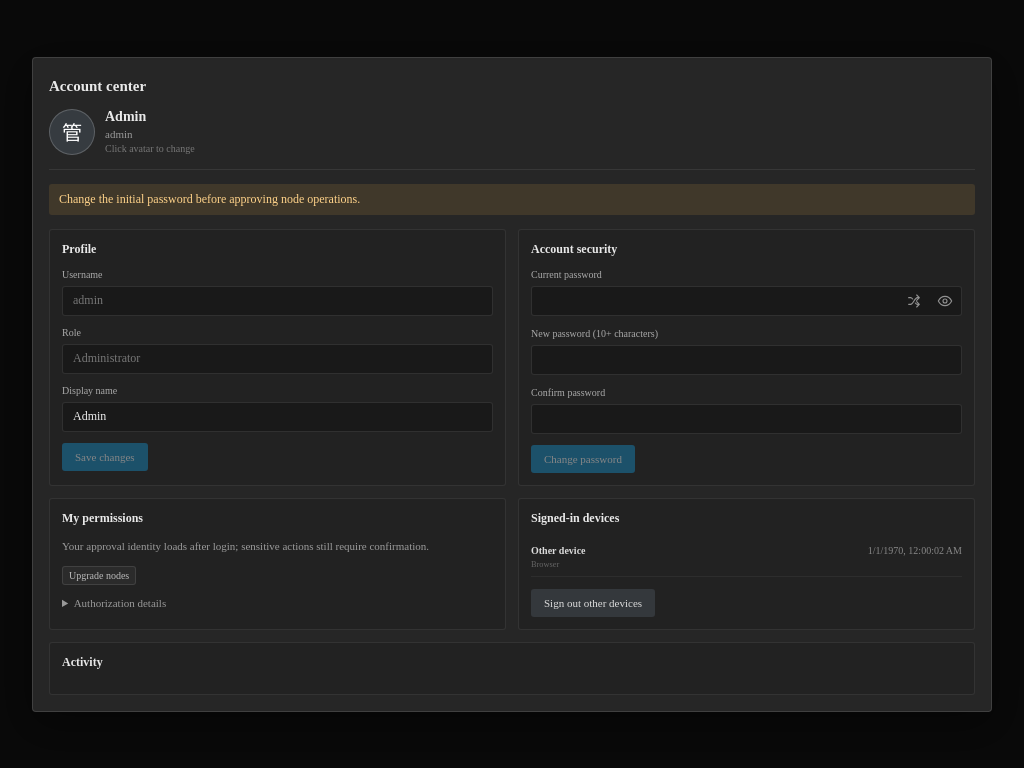
reports failed saves and allows retry
This screenshot has width=1024, height=768.
Expected: the text "Browser" is shown, [531,560,559,568]
Replace the text in the field labelled "Display name" with "Changed". click: {"x": 278, "y": 416}
box: [62,402,493,432]
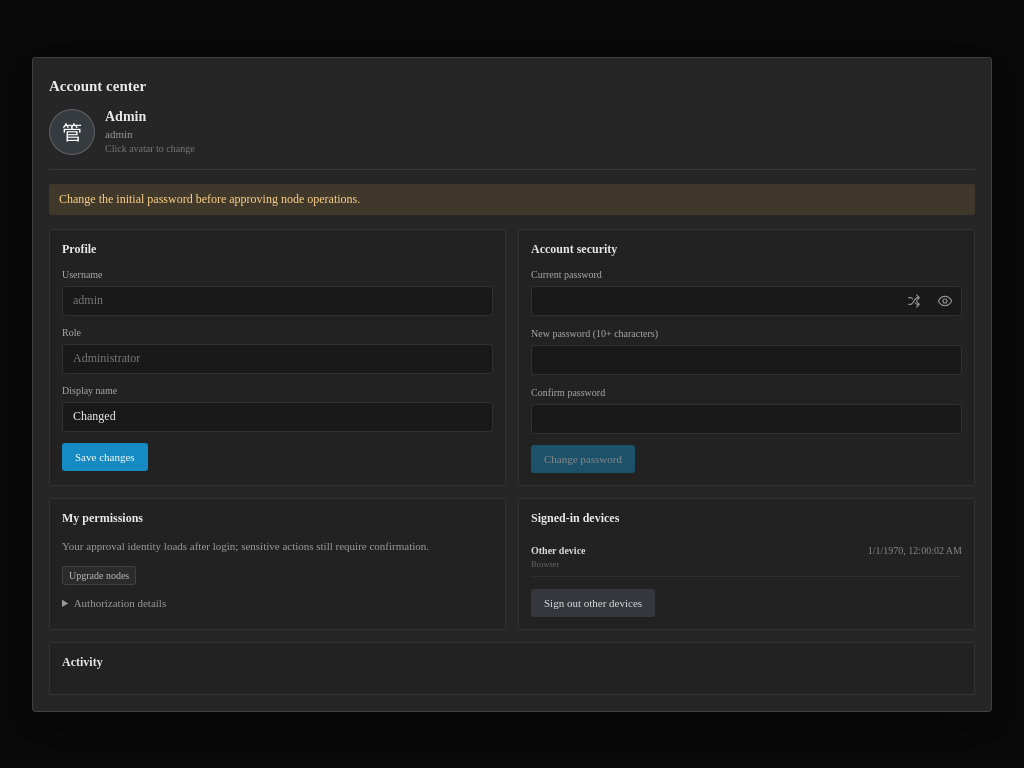
Click the button "Save changes". click: {"x": 105, "y": 456}
box: [62,442,148,470]
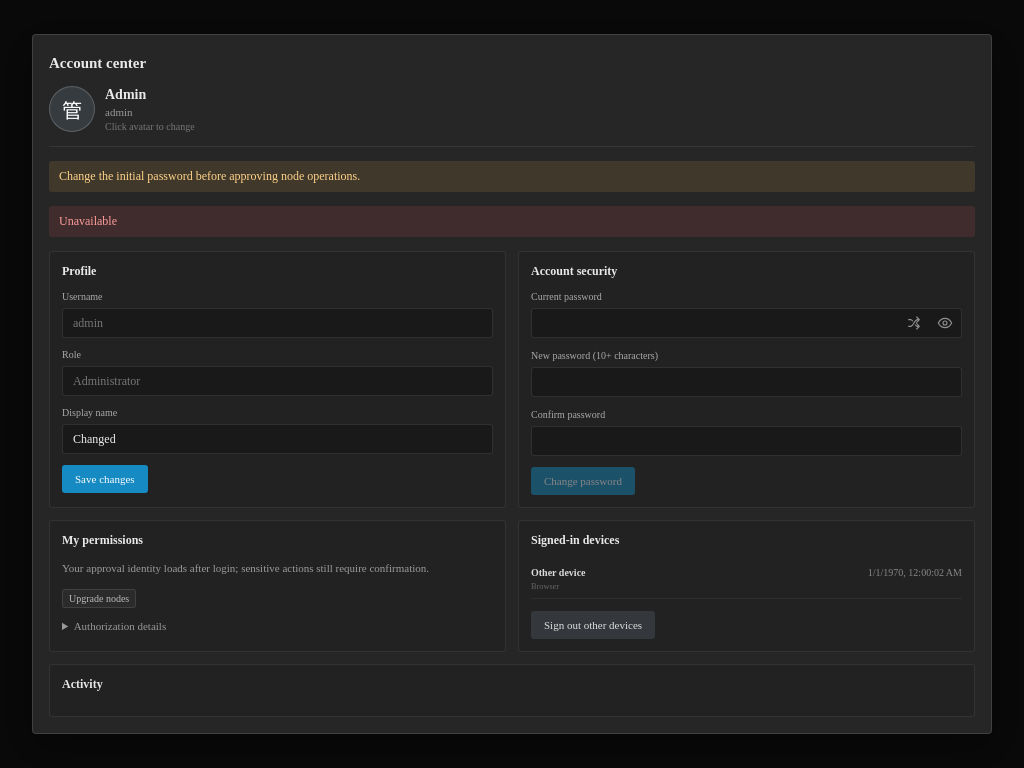
Result: the button "Save changes" is enabled at [62,465,148,493]
Result: the text "Unavailable" is shown at [49,206,975,237]
